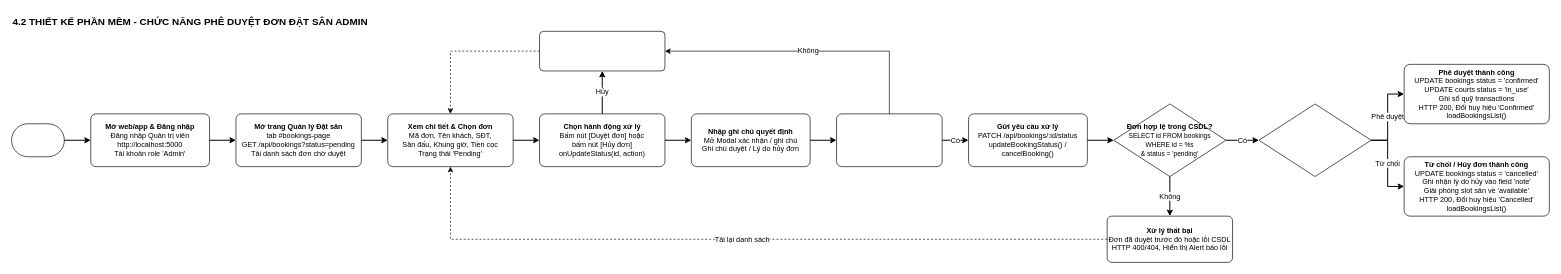
Image size: 1561x274. Some labels were removed from this diagram. Each missing label, with the centre of its shape:
"Hủy thao tác Đóng hộp thoại Giữ nguyên danh sách đơn" belongs at point 602,51.
"Quyết định là Phê duyệt? action == 'confirmed' hay action == 'cancelled'" belongs at point 1314,140.
"START" belongs at point 37,140.
"Xác nhận thao tác? Bấm nút Xác nhận (OK) (Không bấm nút Hủy)" belongs at point 889,140.
